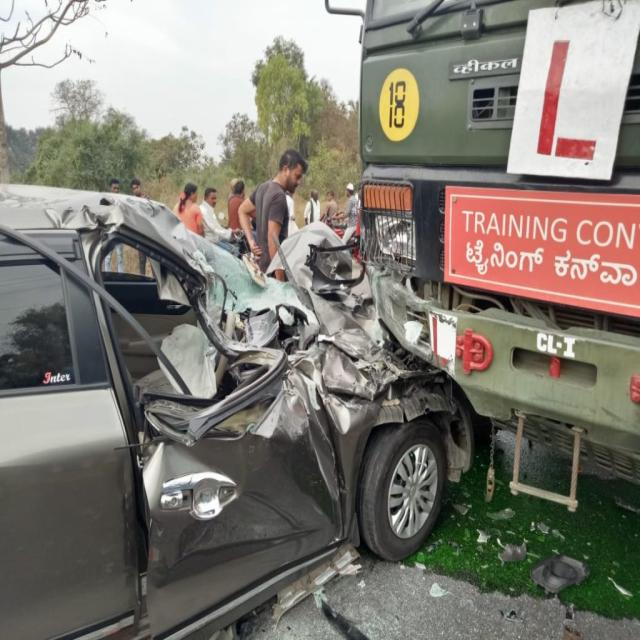accident: (0, 187, 471, 638)
